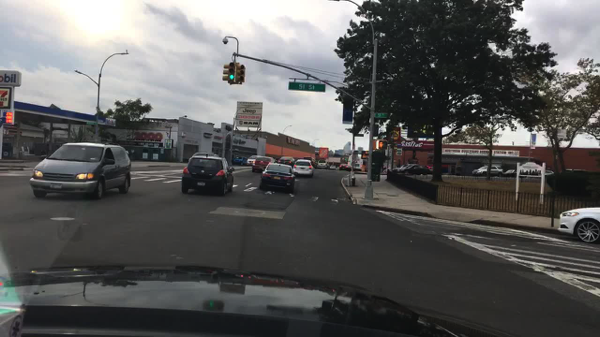car: (30, 144, 132, 199), (181, 159, 235, 196), (557, 205, 598, 242), (258, 163, 296, 192), (396, 163, 432, 176), (250, 156, 273, 176), (291, 158, 313, 176), (473, 164, 504, 175), (191, 152, 215, 159), (247, 154, 259, 166), (278, 157, 296, 165), (233, 156, 247, 165), (301, 157, 316, 165), (317, 159, 327, 169), (340, 163, 351, 171), (271, 156, 280, 165), (505, 169, 516, 176), (399, 163, 410, 168), (329, 164, 336, 170), (213, 152, 221, 157), (335, 166, 340, 172)
traffic light: (227, 61, 237, 86), (237, 63, 246, 85), (221, 64, 228, 83), (377, 141, 387, 150)
traffic sign: (288, 83, 326, 91), (374, 114, 390, 119), (354, 134, 364, 139), (397, 148, 402, 156), (351, 160, 357, 166), (294, 145, 297, 155), (86, 122, 95, 125)
